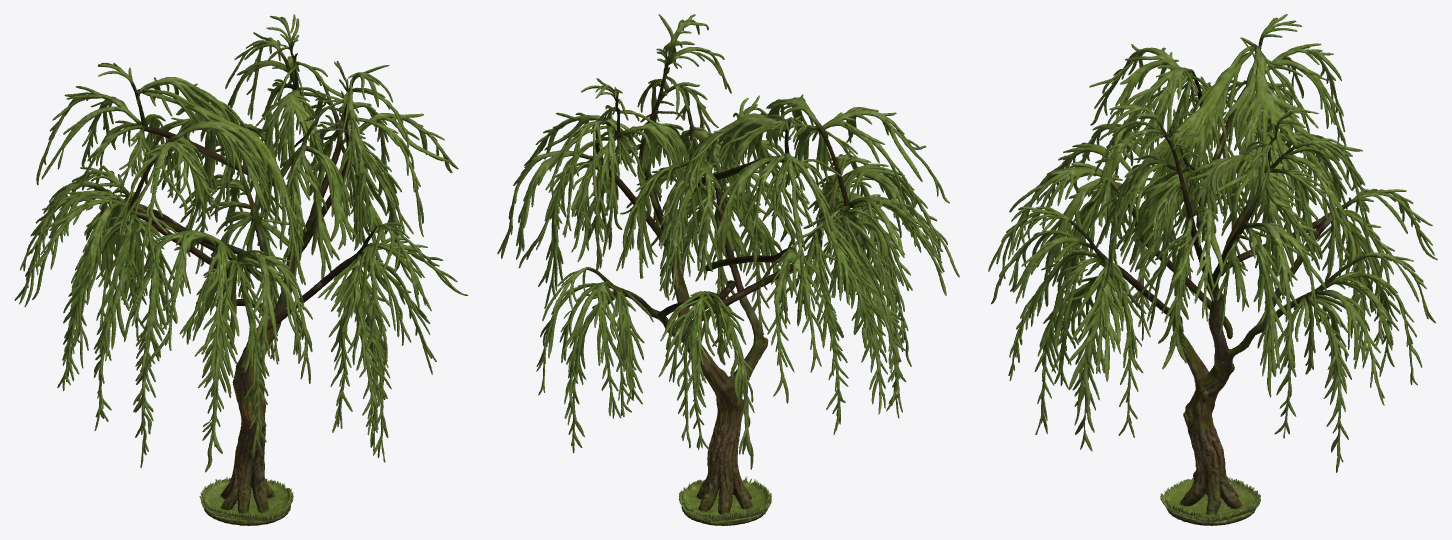
The model's file is LiuShu.glb.
3 renders of one model, left to right at view 1: azimuth 30°, elevation 25°; view 2: azimuth 150°, elevation 25°; view 3: azimuth 270°, elevation 25°, orthographic.
Parts seen in each view (by area): view 1: tripo_node_2446b550-3c5a-4716-9985-67d93afd5693; view 2: tripo_node_2446b550-3c5a-4716-9985-67d93afd5693; view 3: tripo_node_2446b550-3c5a-4716-9985-67d93afd5693.
Boxes of the visible parts, x1=… form: tripo_node_2446b550-3c5a-4716-9985-67d93afd5693: x1=14, y1=14, x2=468, y2=525; tripo_node_2446b550-3c5a-4716-9985-67d93afd5693: x1=497, y1=14, x2=959, y2=525; tripo_node_2446b550-3c5a-4716-9985-67d93afd5693: x1=988, y1=14, x2=1437, y2=525.
Size of the model in its own units: 0.9778 by 0.974 by 0.8966.
1 material, 1 textured.
